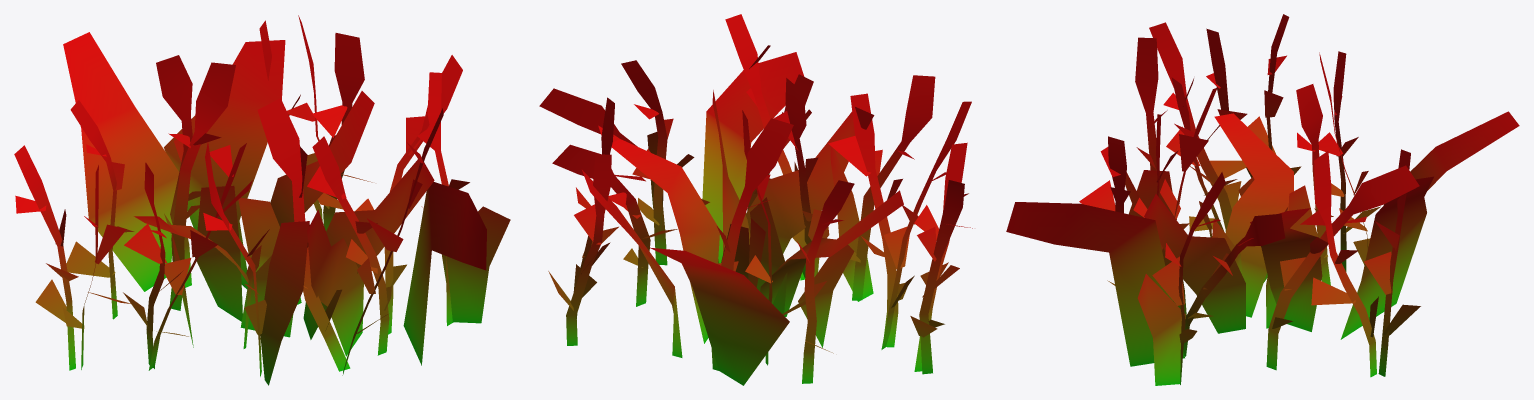
The model's file is Var5_LOD2.fbx.
The picture shows the model from 3 angles, left to right: view 1: azimuth 30°, elevation 25°; view 2: azimuth 150°, elevation 25°; view 3: azimuth 270°, elevation 25°; orthographic projection. The views are drawn at different scales.
Visible parts, largest first — view 1: _7414_Var5_LOD2; view 2: _7414_Var5_LOD2; view 3: _7414_Var5_LOD2.
Boxes of the visible parts, bbox=[...] form: _7414_Var5_LOD2: bbox=[14, 15, 510, 385]; _7414_Var5_LOD2: bbox=[539, 14, 972, 385]; _7414_Var5_LOD2: bbox=[1006, 14, 1519, 385].
Size of the model in its own units: 13.99 by 7.88 by 14.98.
